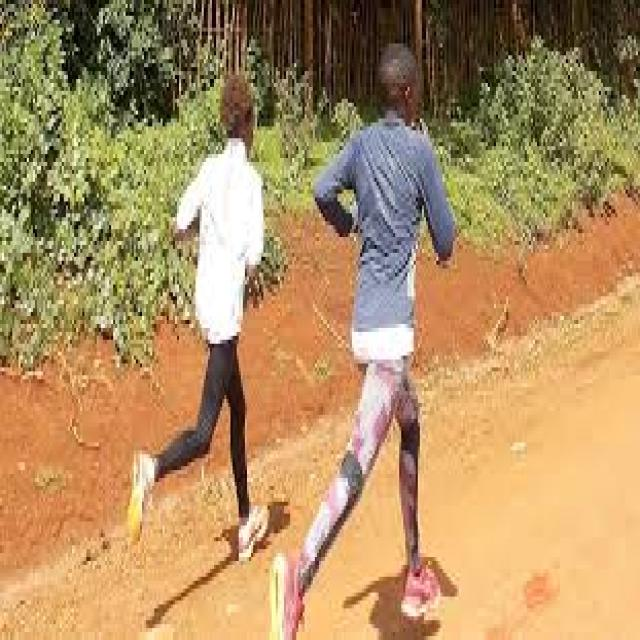running: (269, 39, 458, 640), (126, 70, 275, 562)
